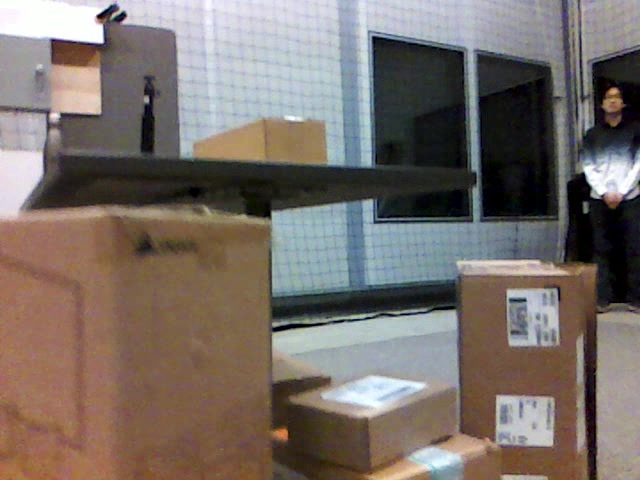box: (1, 213, 268, 477), (457, 258, 594, 476), (289, 371, 460, 469), (195, 119, 328, 163)
